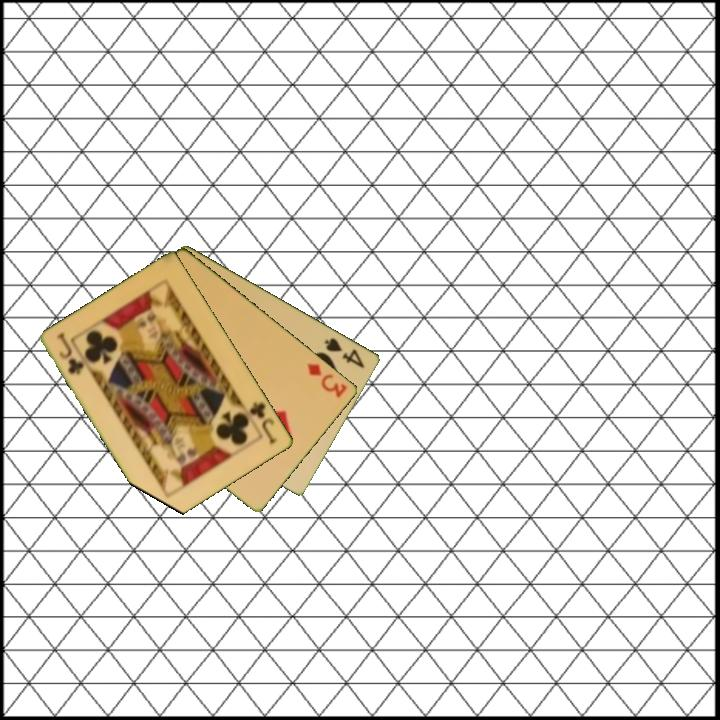3d: (304, 360, 350, 401)
4s: (321, 334, 368, 371)
Jc: (246, 398, 280, 447), (53, 330, 87, 378)
